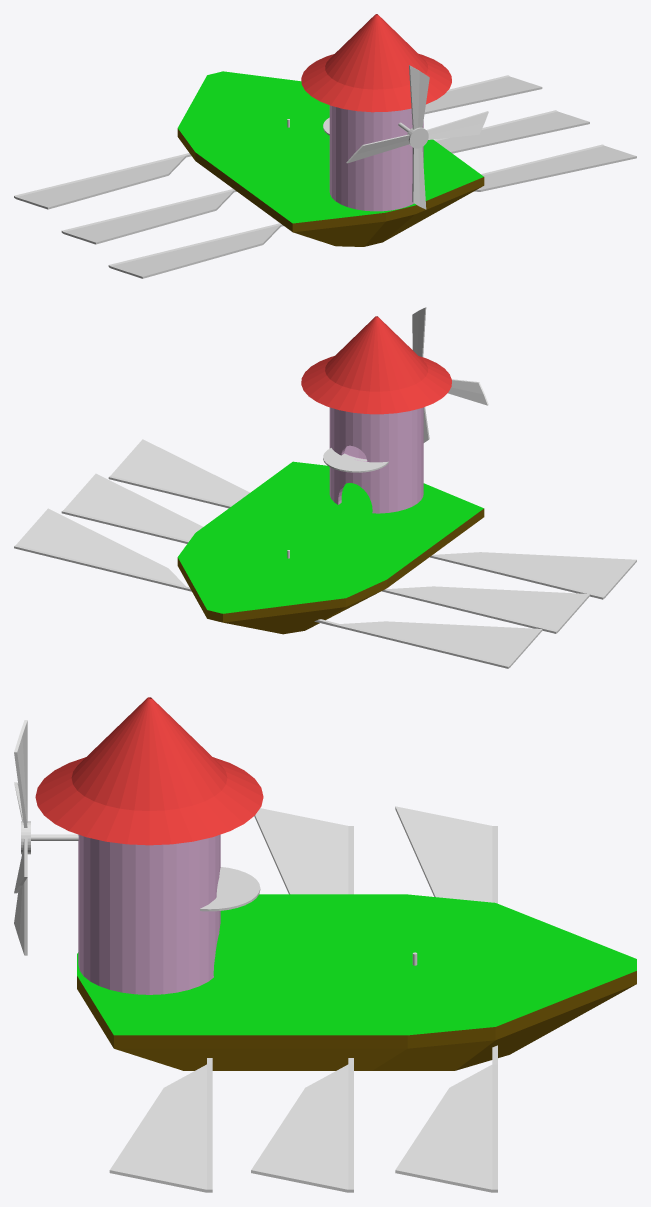
Rendered from MainIsland.fbx.
The picture shows the model from 3 angles, top to bottom: view 1: azimuth 30°, elevation 25°; view 2: azimuth 150°, elevation 25°; view 3: azimuth 270°, elevation 25°; orthographic projection. The views are drawn at different scales.
Parts seen in each view (by area): view 1: Island, Cylinder.001, Cube.005, Cube.006, Cube.008, Cube.009, Cube.007, Cube.004, Cube.001, Cube, Cube.002, Cube.003; view 2: Island, Cylinder.001, Cube.004, Cube.005, Cube.006, Cube.008, Cube.007, Cube.009, Cylinder.002, Cube.003, Cube; view 3: Island, Cylinder.001, Cube.004, Cube.009, Cube.007, Cube.005, Cube.006, Cylinder.002, Cube, Cube.002.
Boxes of the visible parts, x1,y1,x2,y2 form: Island: (177, 71, 484, 246); Cylinder.001: (301, 14, 451, 211); Cube.005: (14, 153, 191, 209); Cube.006: (61, 189, 236, 244); Cube.008: (108, 223, 283, 278); Cube.009: (474, 144, 636, 191); Cube.007: (434, 110, 589, 153); Cube.004: (424, 75, 542, 114); Cube.001: (426, 111, 488, 139); Cube: (409, 65, 429, 129); Cube.002: (412, 147, 426, 209); Cube.003: (346, 134, 409, 163); Island: (177, 461, 484, 634); Cylinder.001: (301, 316, 451, 513); Cube.004: (14, 508, 191, 591); Cube.005: (314, 619, 542, 668); Cube.006: (382, 586, 589, 633); Cube.008: (430, 552, 636, 599); Cube.007: (61, 473, 202, 543); Cube.009: (108, 439, 249, 508); Cylinder.002: (323, 448, 388, 472); Cube.003: (448, 379, 488, 405); Cube: (412, 307, 426, 356); Island: (77, 894, 636, 1070); Cylinder.001: (35, 697, 263, 994); Cube.004: (395, 1045, 497, 1192); Cube.009: (109, 1058, 212, 1192); Cube.007: (251, 1058, 353, 1192); Cube.005: (395, 806, 497, 903); Cube.006: (254, 808, 353, 894); Cylinder.002: (200, 867, 260, 911); Cube: (14, 720, 27, 827); Cube.002: (14, 877, 27, 955).
Bounding box in the file's own units: 11722 × 5270 × 8482.
